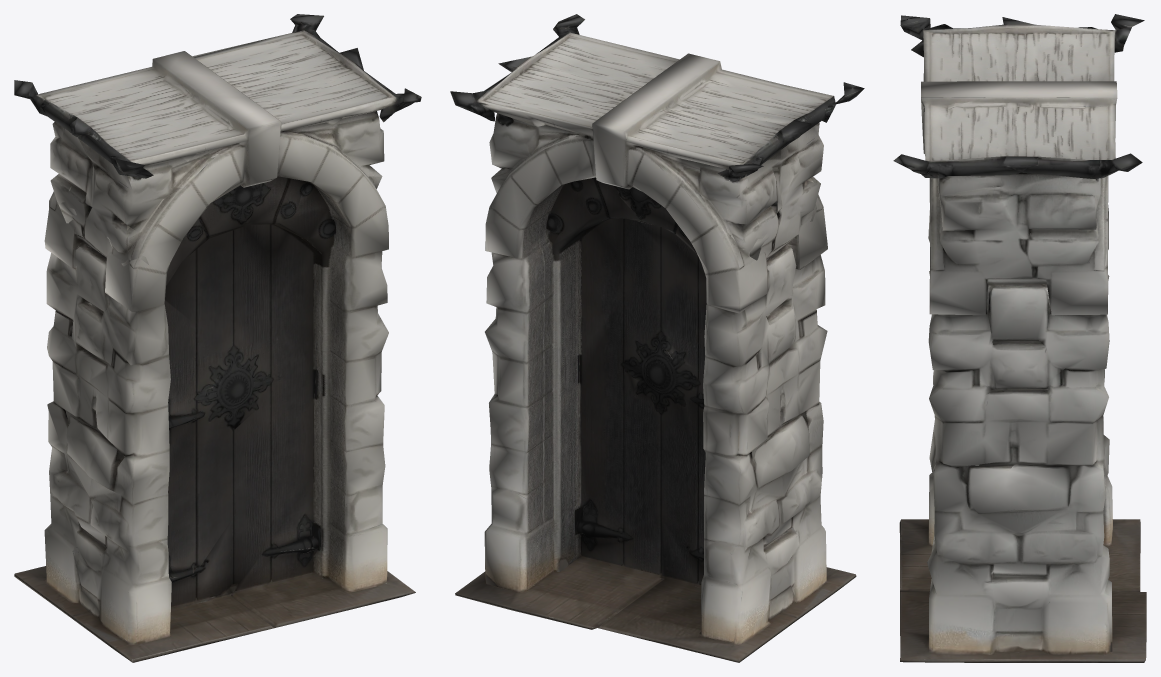
File: door-web.glb
3 views of the same model, side by side, from view 1: azimuth 30°, elevation 25°; view 2: azimuth 150°, elevation 25°; view 3: azimuth 270°, elevation 25° (orthographic). The views are drawn at different scales.
Size of the model in its own units: 1.33 by 2.01 by 0.9148.
Materials: 1 (1 with a texture image).
